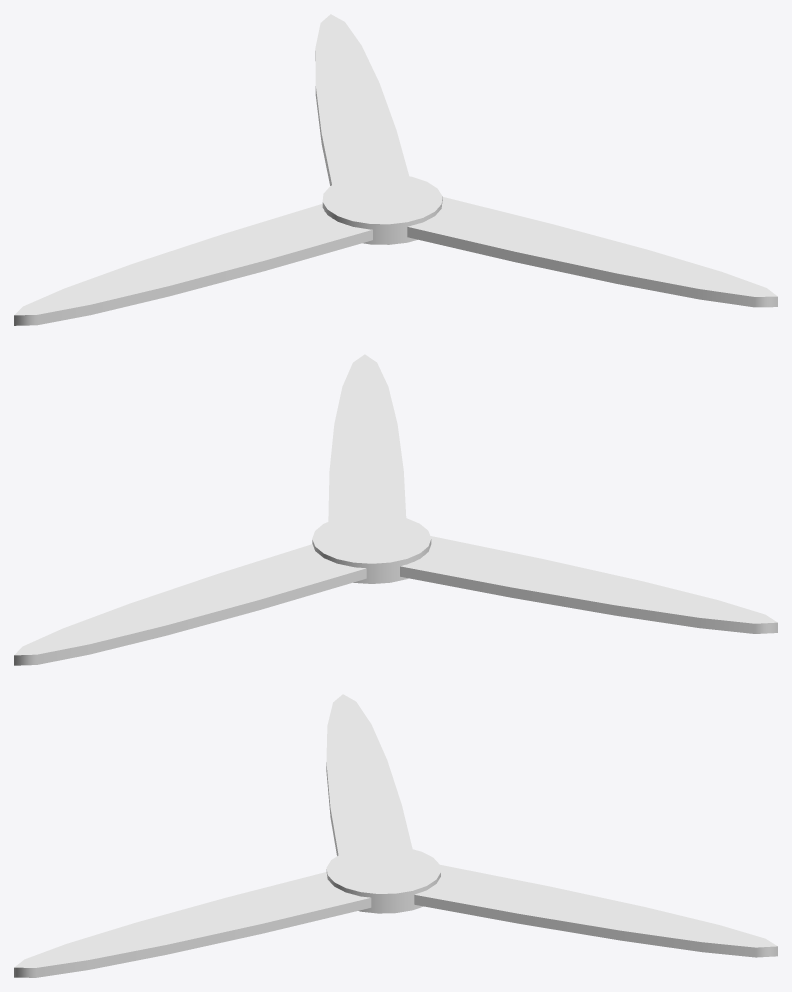
File: VentiladorHelices.obj
The picture shows the model from 3 angles, top to bottom: view 1: azimuth 30°, elevation 25°; view 2: azimuth 150°, elevation 25°; view 3: azimuth 270°, elevation 25°; orthographic projection. The views are drawn at different scales.
Visible parts, largest first — view 1: polySurface3; view 2: polySurface3; view 3: polySurface3.
Part boxes in pixels (<box>): polySurface3: <box>14,14,777,325</box>; polySurface3: <box>14,354,777,665</box>; polySurface3: <box>14,694,777,977</box>.
Bounding box in the file's own units: 4.56 × 0.151 × 5.35.
